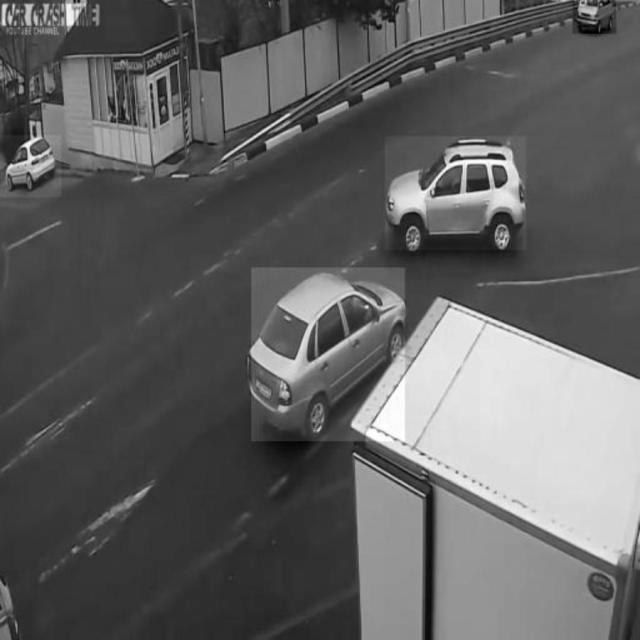vehicle: (251, 267, 405, 441), (386, 137, 527, 250), (0, 136, 61, 198), (573, 0, 617, 34)
